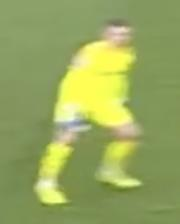goalkeeper: (30, 7, 161, 224)
